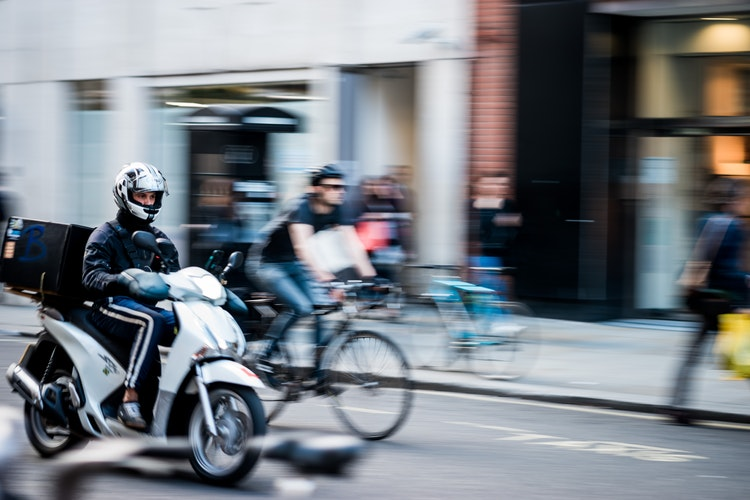helmet: (108, 171, 181, 226)
